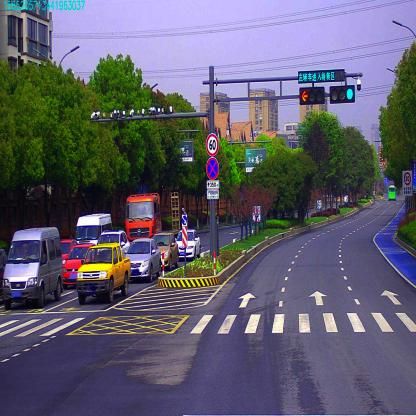traffic-light: (328, 86, 354, 102), (299, 70, 345, 79), (299, 87, 323, 102)
